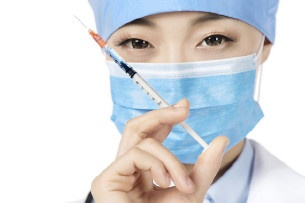Mask: (102, 10, 252, 161)
